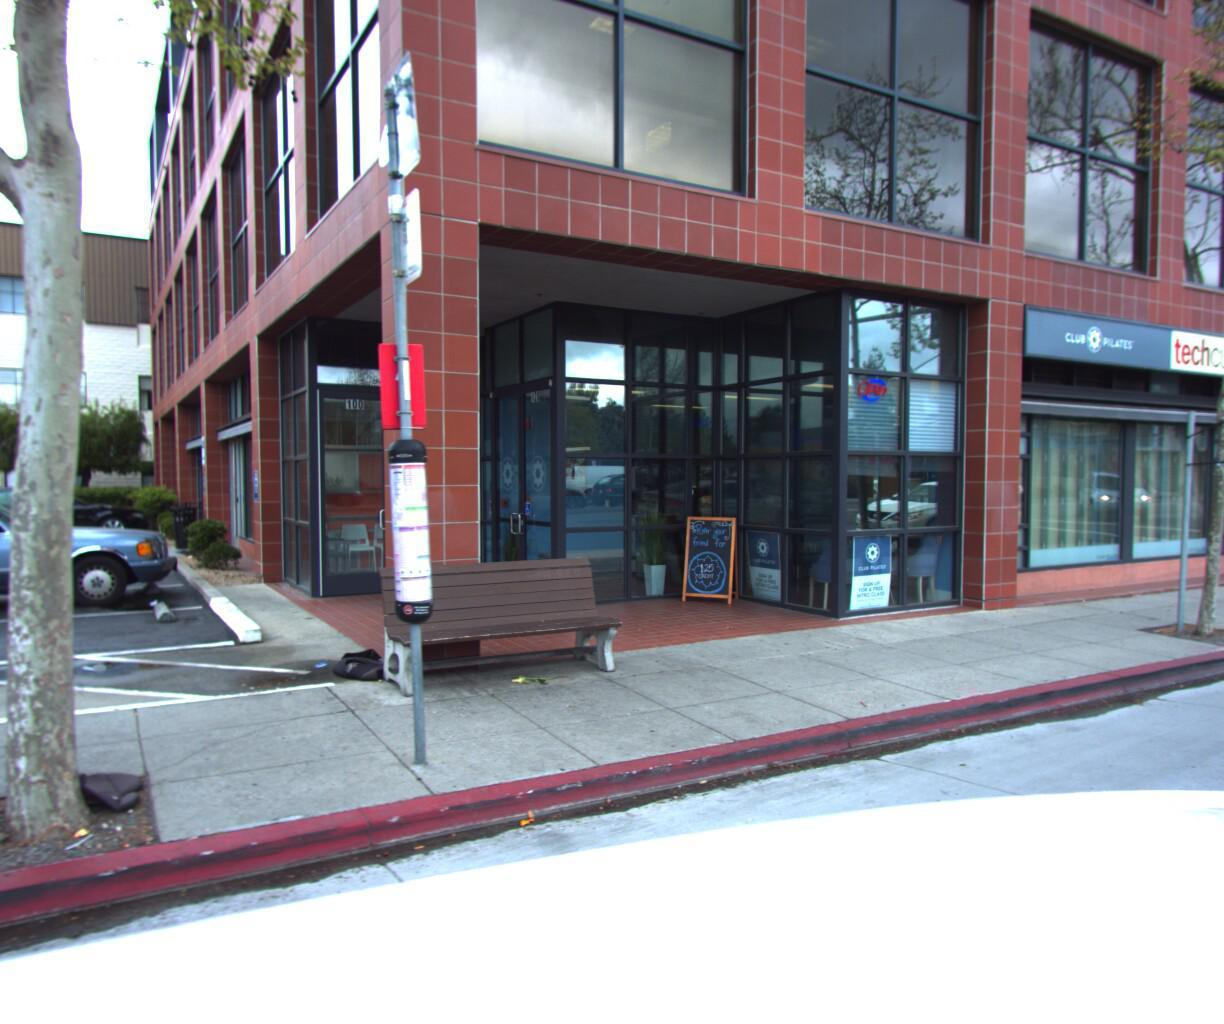car: (0, 487, 194, 669)
